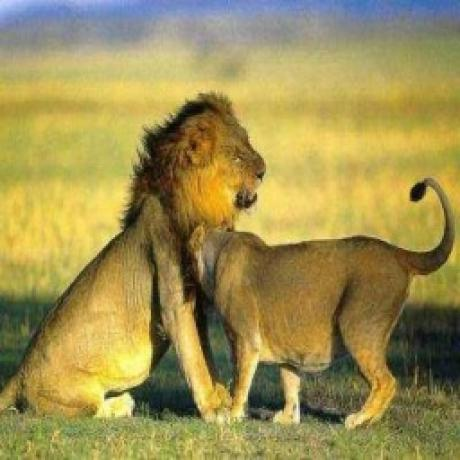Lion: (0, 92, 270, 418), (188, 181, 460, 425)
